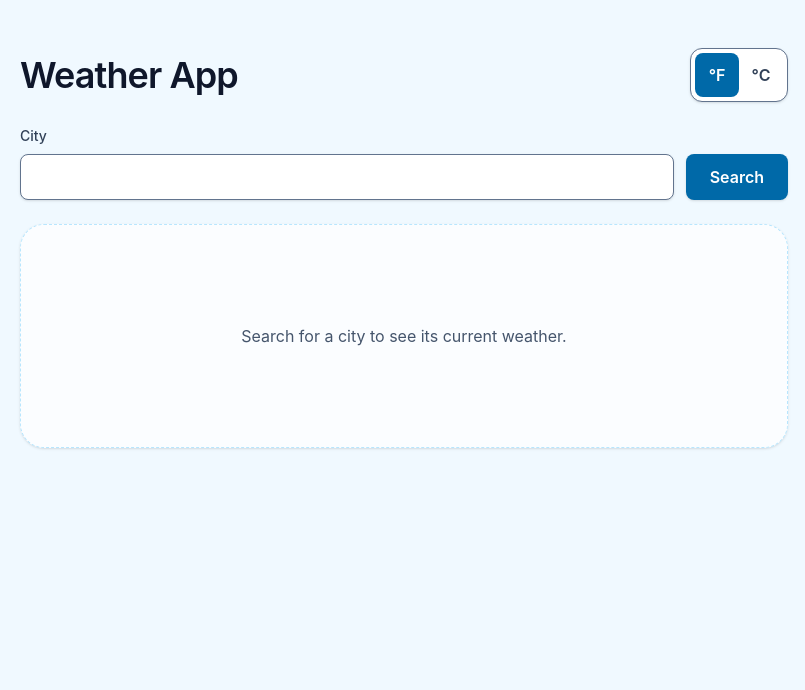
Test: App › renders every required field after a successful request
Type "  Tampa  " into the field labelled "City". click: (347, 177)
box: [20, 154, 674, 200]
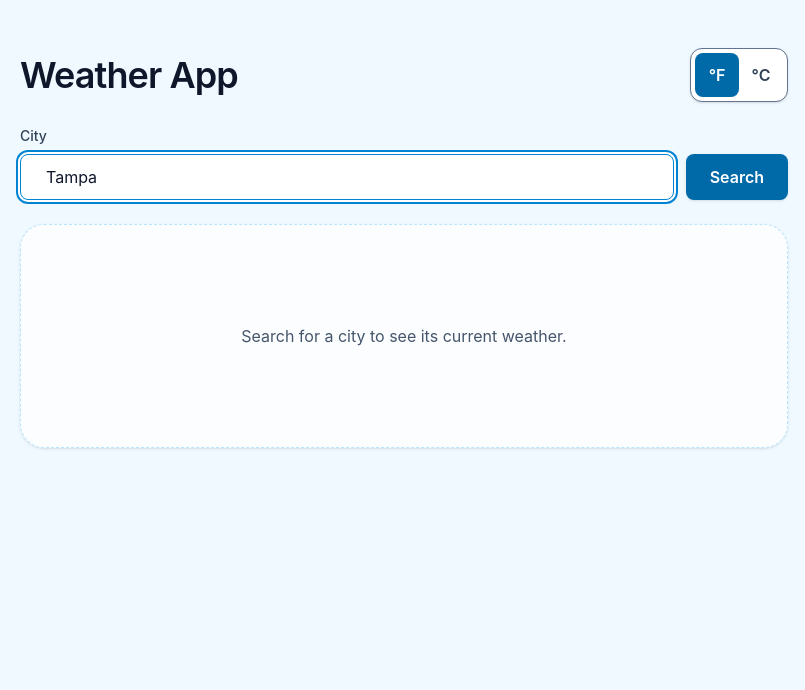
Click the button "Search". click: (737, 177)
box: [686, 154, 788, 200]
(page scrolled)
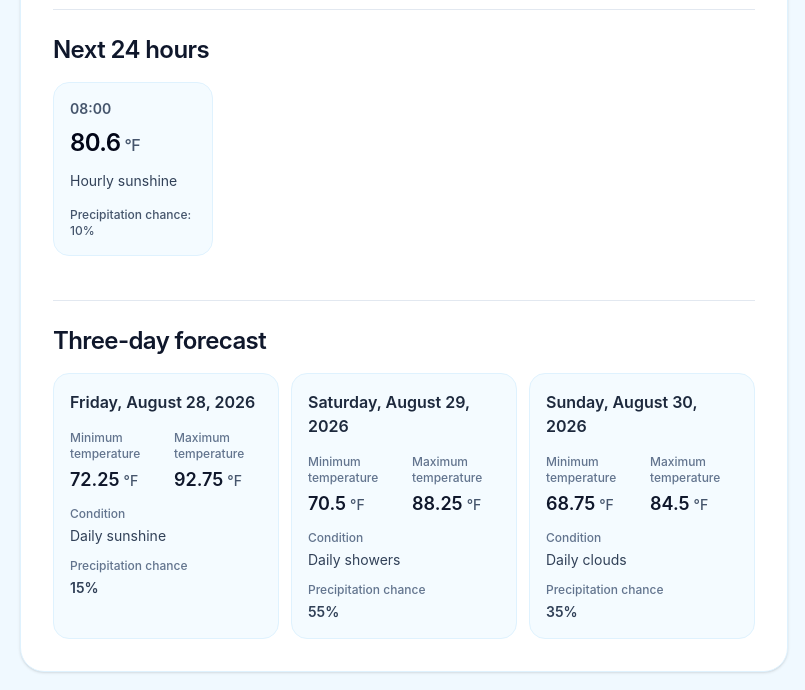
Now the text "08:00" is shown, box [70, 100, 111, 117]
Now the text "80.6" is shown, box [70, 128, 120, 157]
Now the text "°F" next to "80.6" is shown, box [124, 135, 140, 155]
